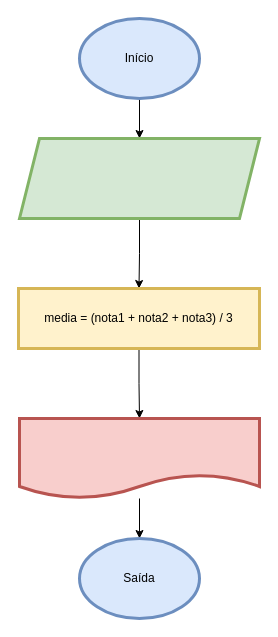
The diagram is 278 pixels wide and 637 high, and some of its shapes have lost their labels. Here are the shapes that lost their labels. From the top down, the centre of each, then its label:
At (139,178): "nota1, nota2, nota3".
At (139,458): "media".
